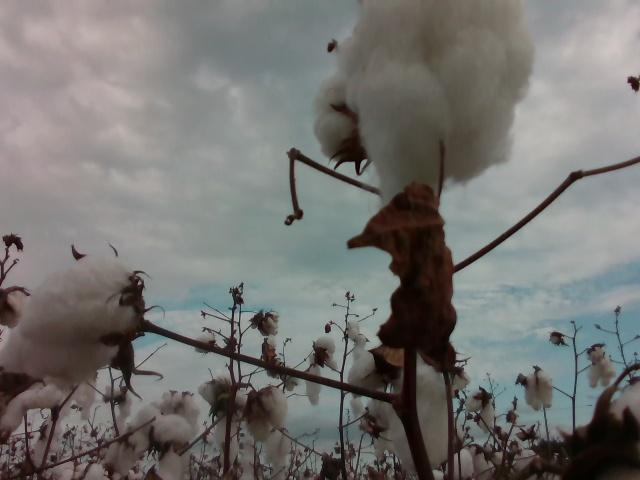cotton_ready: (337, 0, 537, 227), (2, 251, 141, 379), (347, 342, 452, 475), (0, 371, 96, 435), (309, 73, 368, 164), (125, 404, 191, 480), (198, 375, 247, 467), (349, 394, 399, 462), (605, 378, 640, 455), (246, 387, 290, 442), (304, 337, 338, 407), (108, 414, 147, 469), (32, 415, 66, 474), (160, 389, 200, 439), (266, 428, 295, 478), (1, 287, 32, 329), (467, 446, 506, 479), (524, 370, 555, 411), (467, 391, 497, 432), (54, 459, 109, 480), (451, 449, 475, 480)
